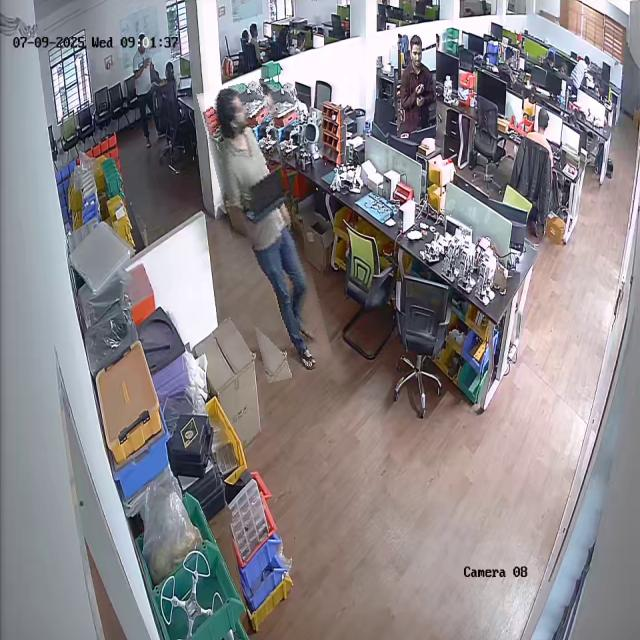person: (213, 80, 318, 382), (398, 33, 436, 138)
